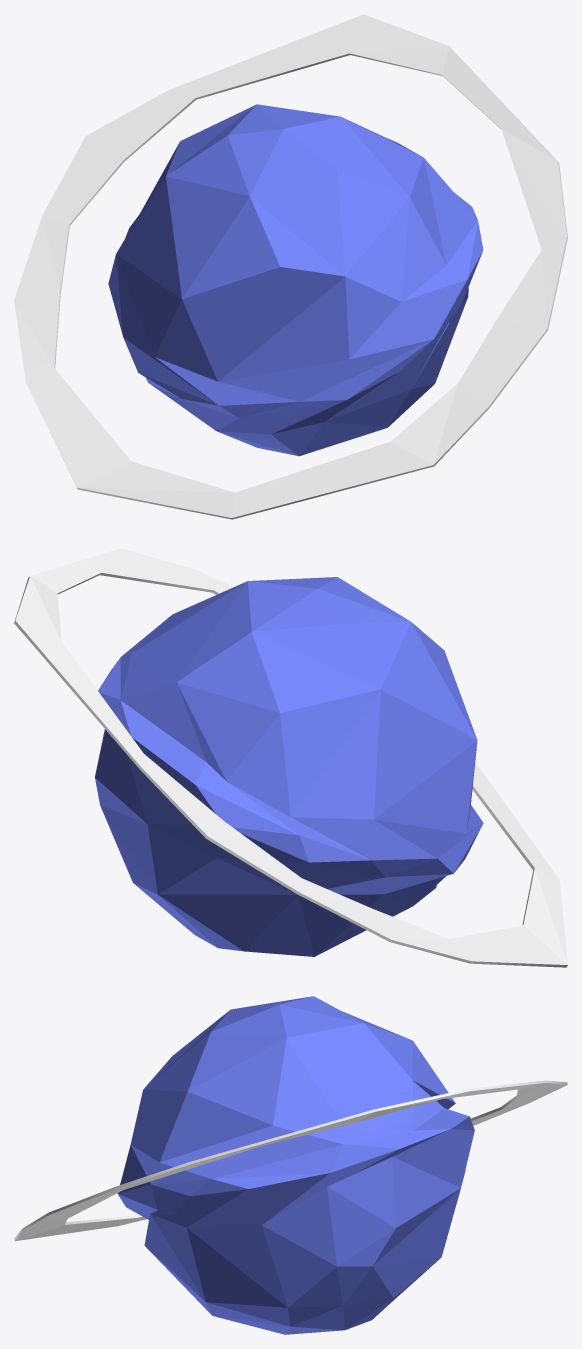
File: Planet_04_b.fbx
3 renders of one model, top to bottom at view 1: azimuth 30°, elevation 25°; view 2: azimuth 150°, elevation 25°; view 3: azimuth 270°, elevation 25°, orthographic. The views are drawn at different scales.
Parts seen in each view (by area): view 1: Planet_018; view 2: Planet_018; view 3: Planet_018.
Part boxes in pixels (box(x1,y1,x2,y2)): Planet_018: box(14, 14, 567, 519); Planet_018: box(14, 548, 567, 967); Planet_018: box(14, 996, 567, 1334).
Bounding box in the file's own units: 101 × 69.48 × 113.
